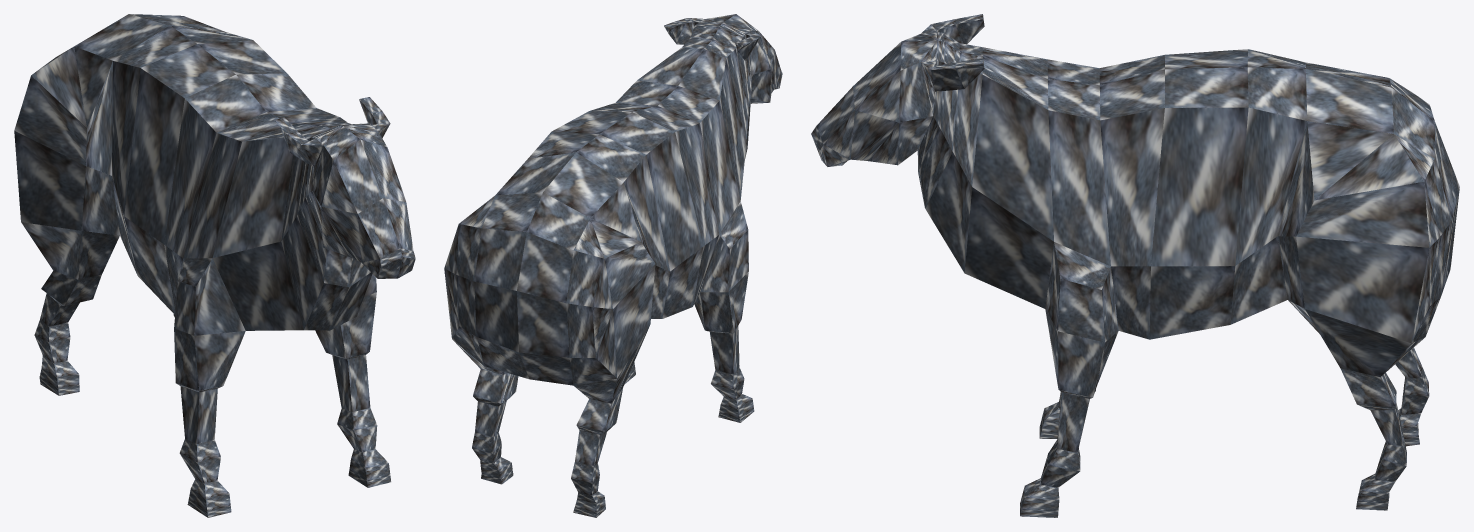
File: SheepIdle_000041.obj
3 renders of one model, left to right at view 1: azimuth 30°, elevation 25°; view 2: azimuth 150°, elevation 25°; view 3: azimuth 270°, elevation 25°, orthographic. The views are drawn at different scales.
Visible parts, largest first — view 1: Sheep_Cylinder; view 2: Sheep_Cylinder; view 3: Sheep_Cylinder.
Boxes of the visible parts, x1,y1,x2,y2 form: Sheep_Cylinder: (14, 14, 415, 517); Sheep_Cylinder: (444, 14, 782, 517); Sheep_Cylinder: (811, 14, 1459, 517).
Size of the model in its own units: 2.22 by 4.39 by 5.92.
